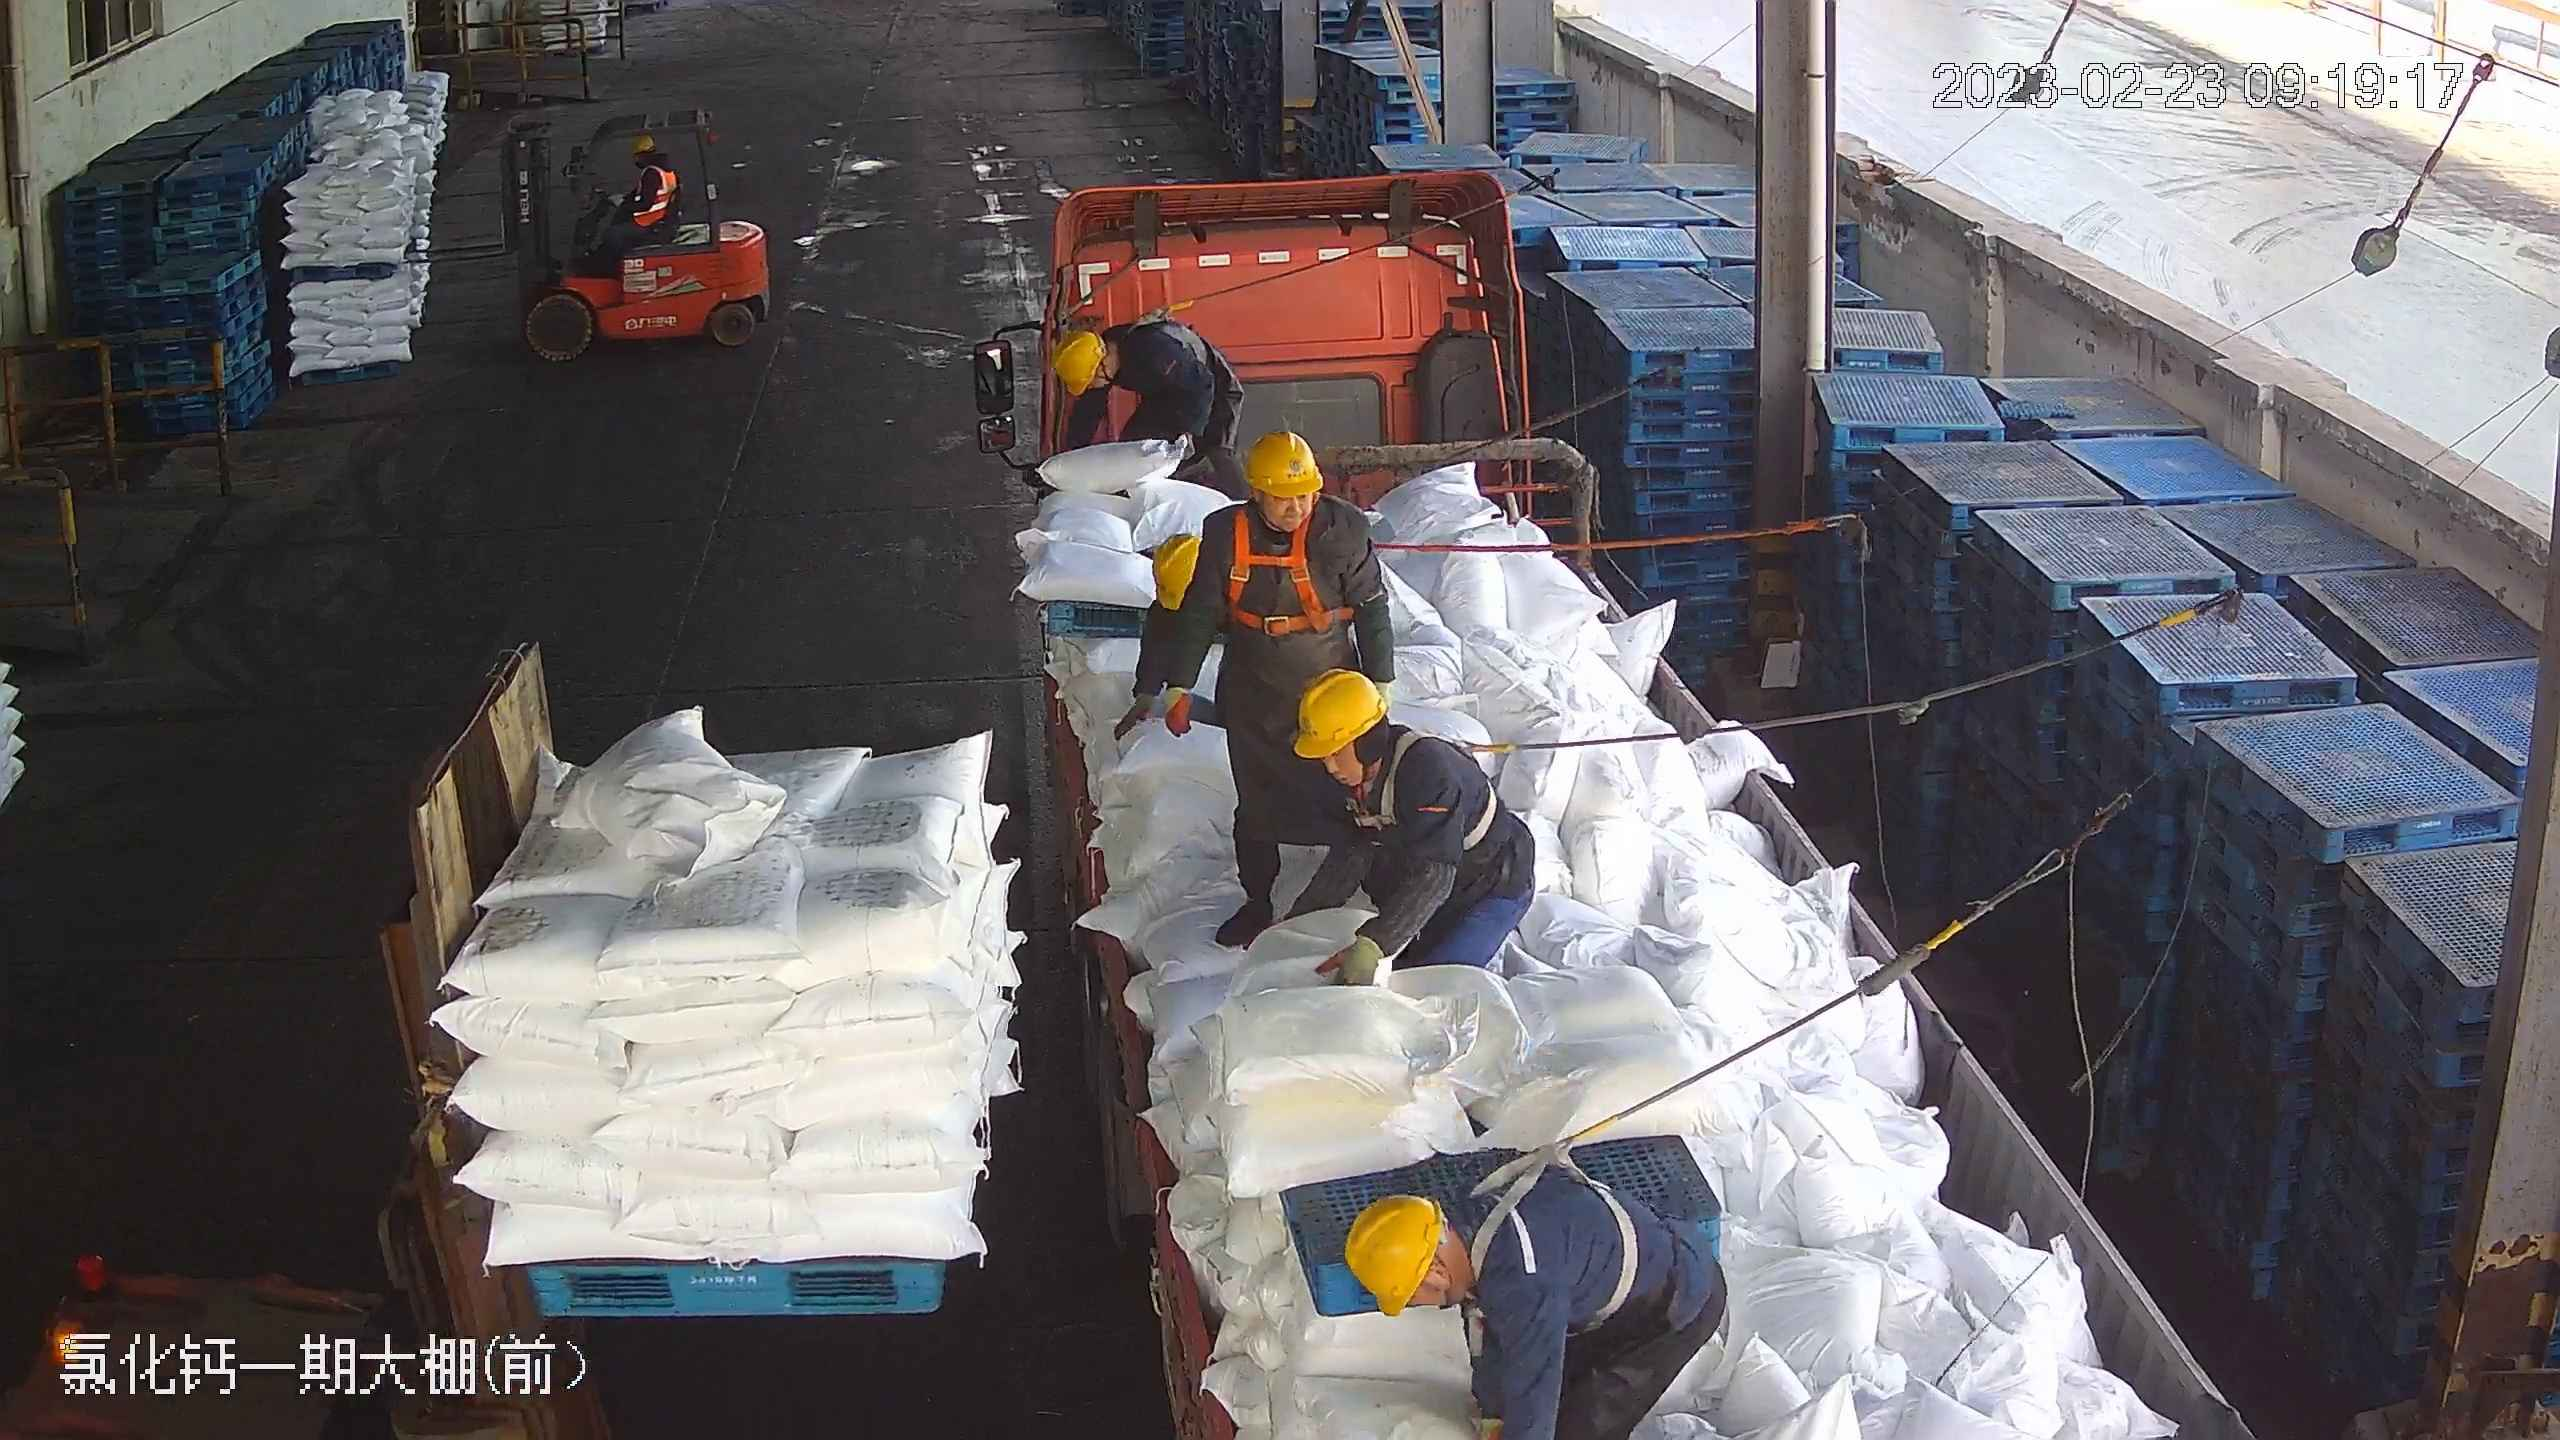belt: (1461, 1137, 1654, 1331), (1340, 725, 1512, 837), (1223, 498, 1351, 633), (1120, 302, 1203, 353)
head: (1345, 1177, 1553, 1346), (1295, 673, 1469, 836), (1201, 430, 1370, 585), (1049, 323, 1171, 412), (624, 132, 673, 190)
helmet: (1346, 1192, 1443, 1321), (1293, 669, 1385, 758), (1241, 429, 1323, 496), (1148, 536, 1201, 611), (1053, 325, 1104, 396), (627, 130, 657, 152)
people: (1152, 435, 1397, 948), (1344, 1161, 1719, 1431), (1282, 673, 1537, 989), (1051, 319, 1242, 482), (595, 132, 677, 244)
truck: (966, 165, 2259, 1430)
